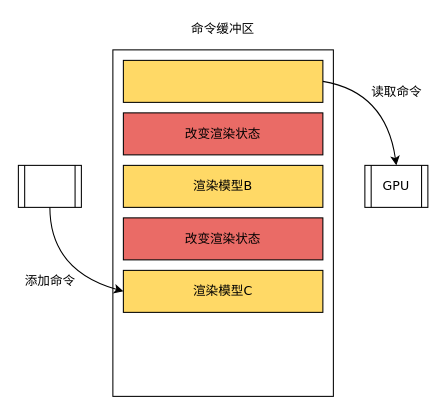
The diagram is 446 pixels wide and 415 high, and some of its shapes have lost their labels. The shapes that lost their labels are listed below. From the top down, each one's centre as x and y in pixels, then its label:
At (x=222, y=80): "渲染模型A".
At (x=49, y=185): "CPU".
